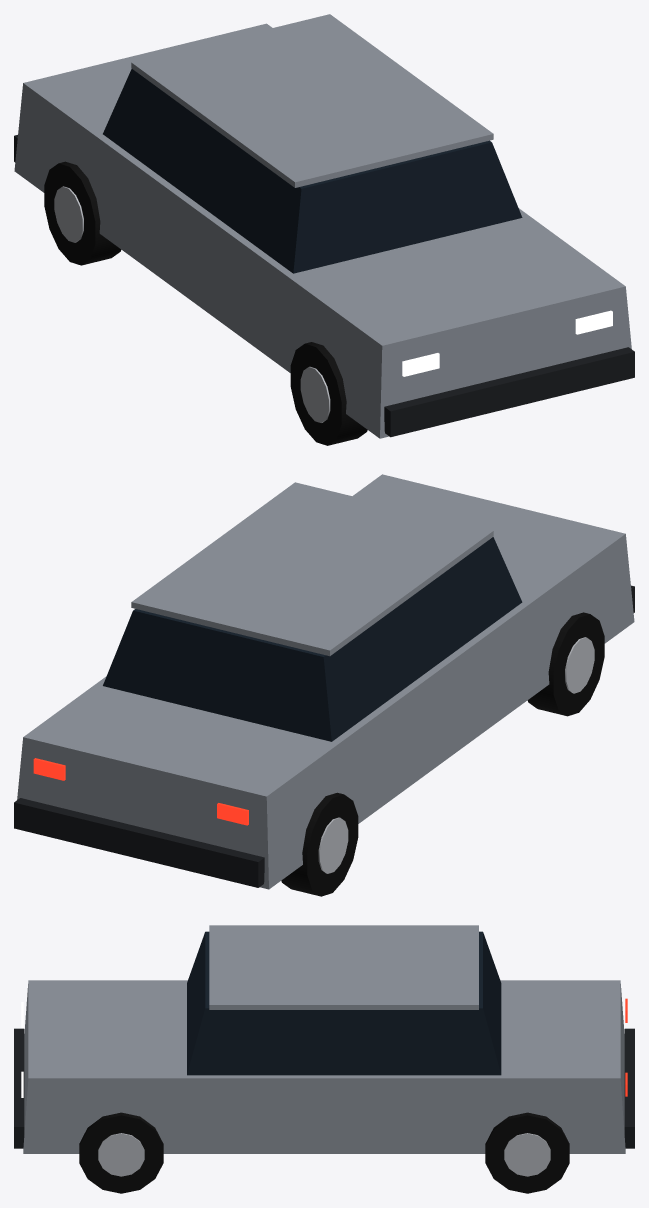
Rendered from sedan-2.glb.
3 renders of one model, top to bottom at view 1: azimuth 30°, elevation 25°; view 2: azimuth 150°, elevation 25°; view 3: azimuth 270°, elevation 25°, orthographic. The views are drawn at different scales.
Size of the model in its own units: 1.93 by 1.48 by 4.74.
